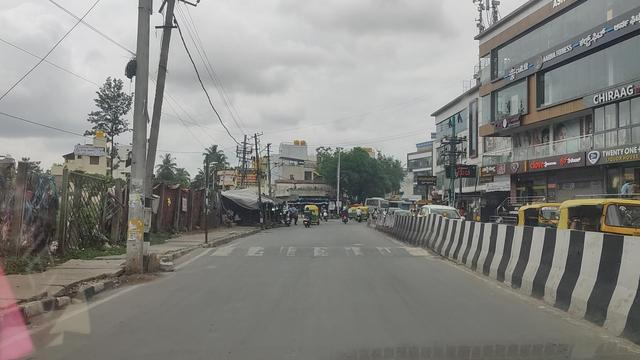SpeedBump: (200, 244, 431, 261)
